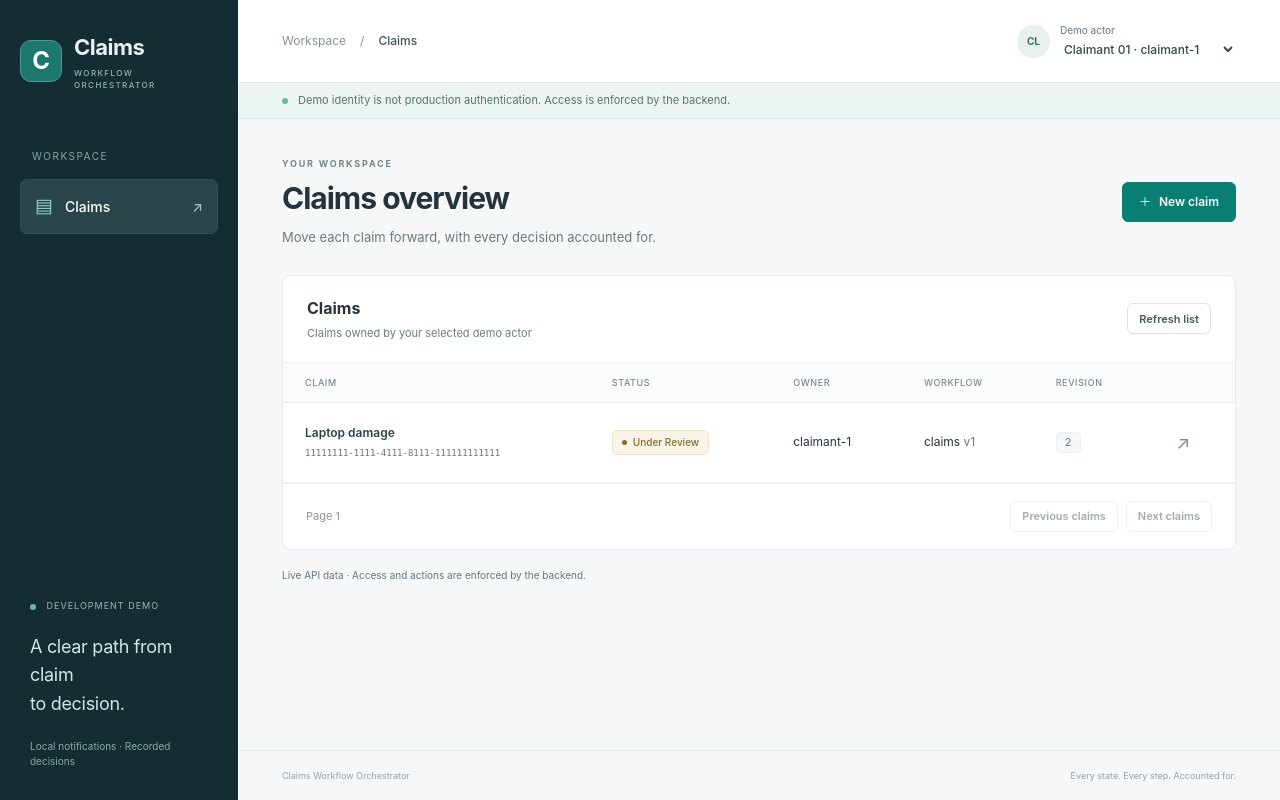
claims demo workspace › renders the pinned workflow version and no made-up cycle maximum
Click the button named "Open Laptop damage" at [1183, 442], box [1172,425,1194,460]
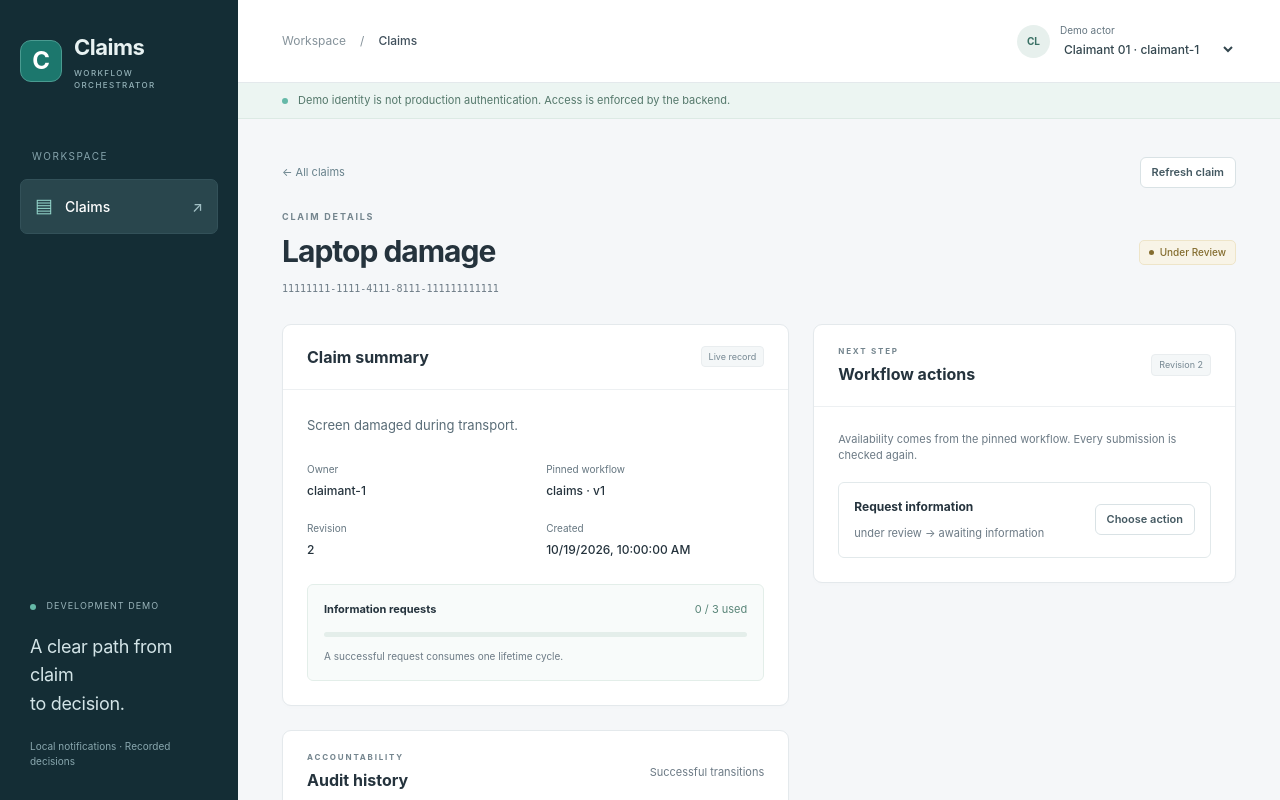
Result: the heading "Workflow actions" is shown at [838,362,975,386]
Result: the text "claims · v1" is shown at [546,483,605,498]
